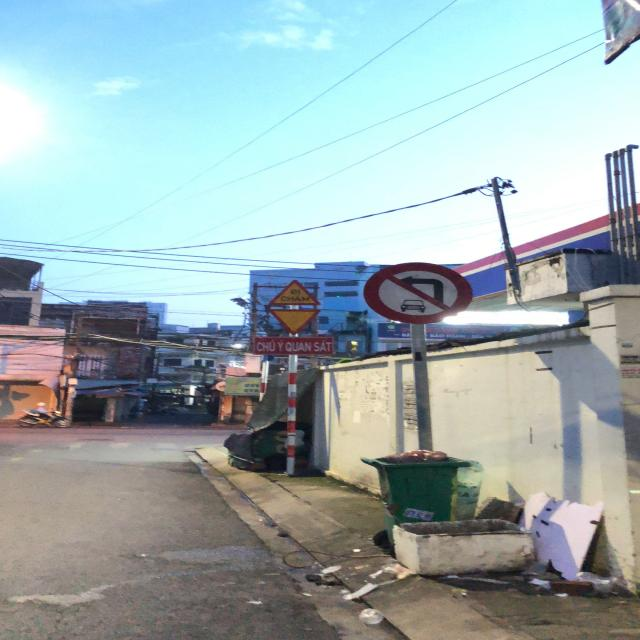Bien bao cam xe o to re trai: (360, 263, 480, 324)
Bien bao di cham: (262, 277, 322, 307)
Bien bao giao nhau voi duong uu tien: (261, 305, 327, 335)
